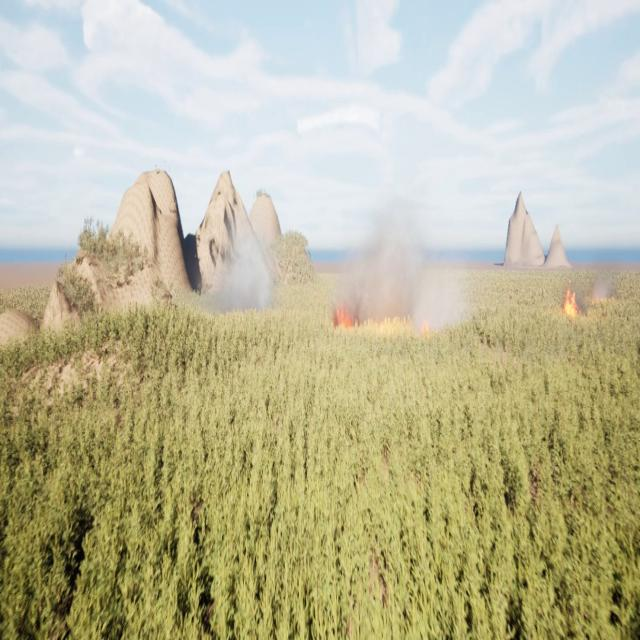fire: (559, 274, 582, 317), (332, 300, 354, 328)
smoke: (331, 195, 468, 332), (208, 231, 278, 314), (586, 274, 612, 305)
